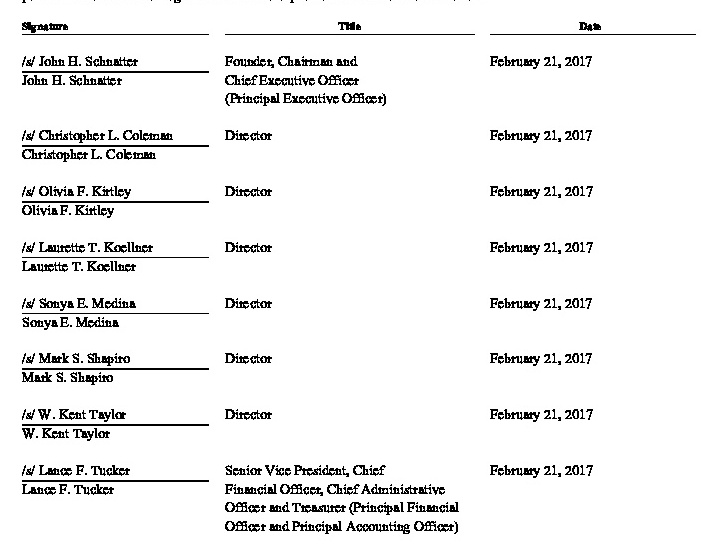table: (0, 0, 714, 549)
